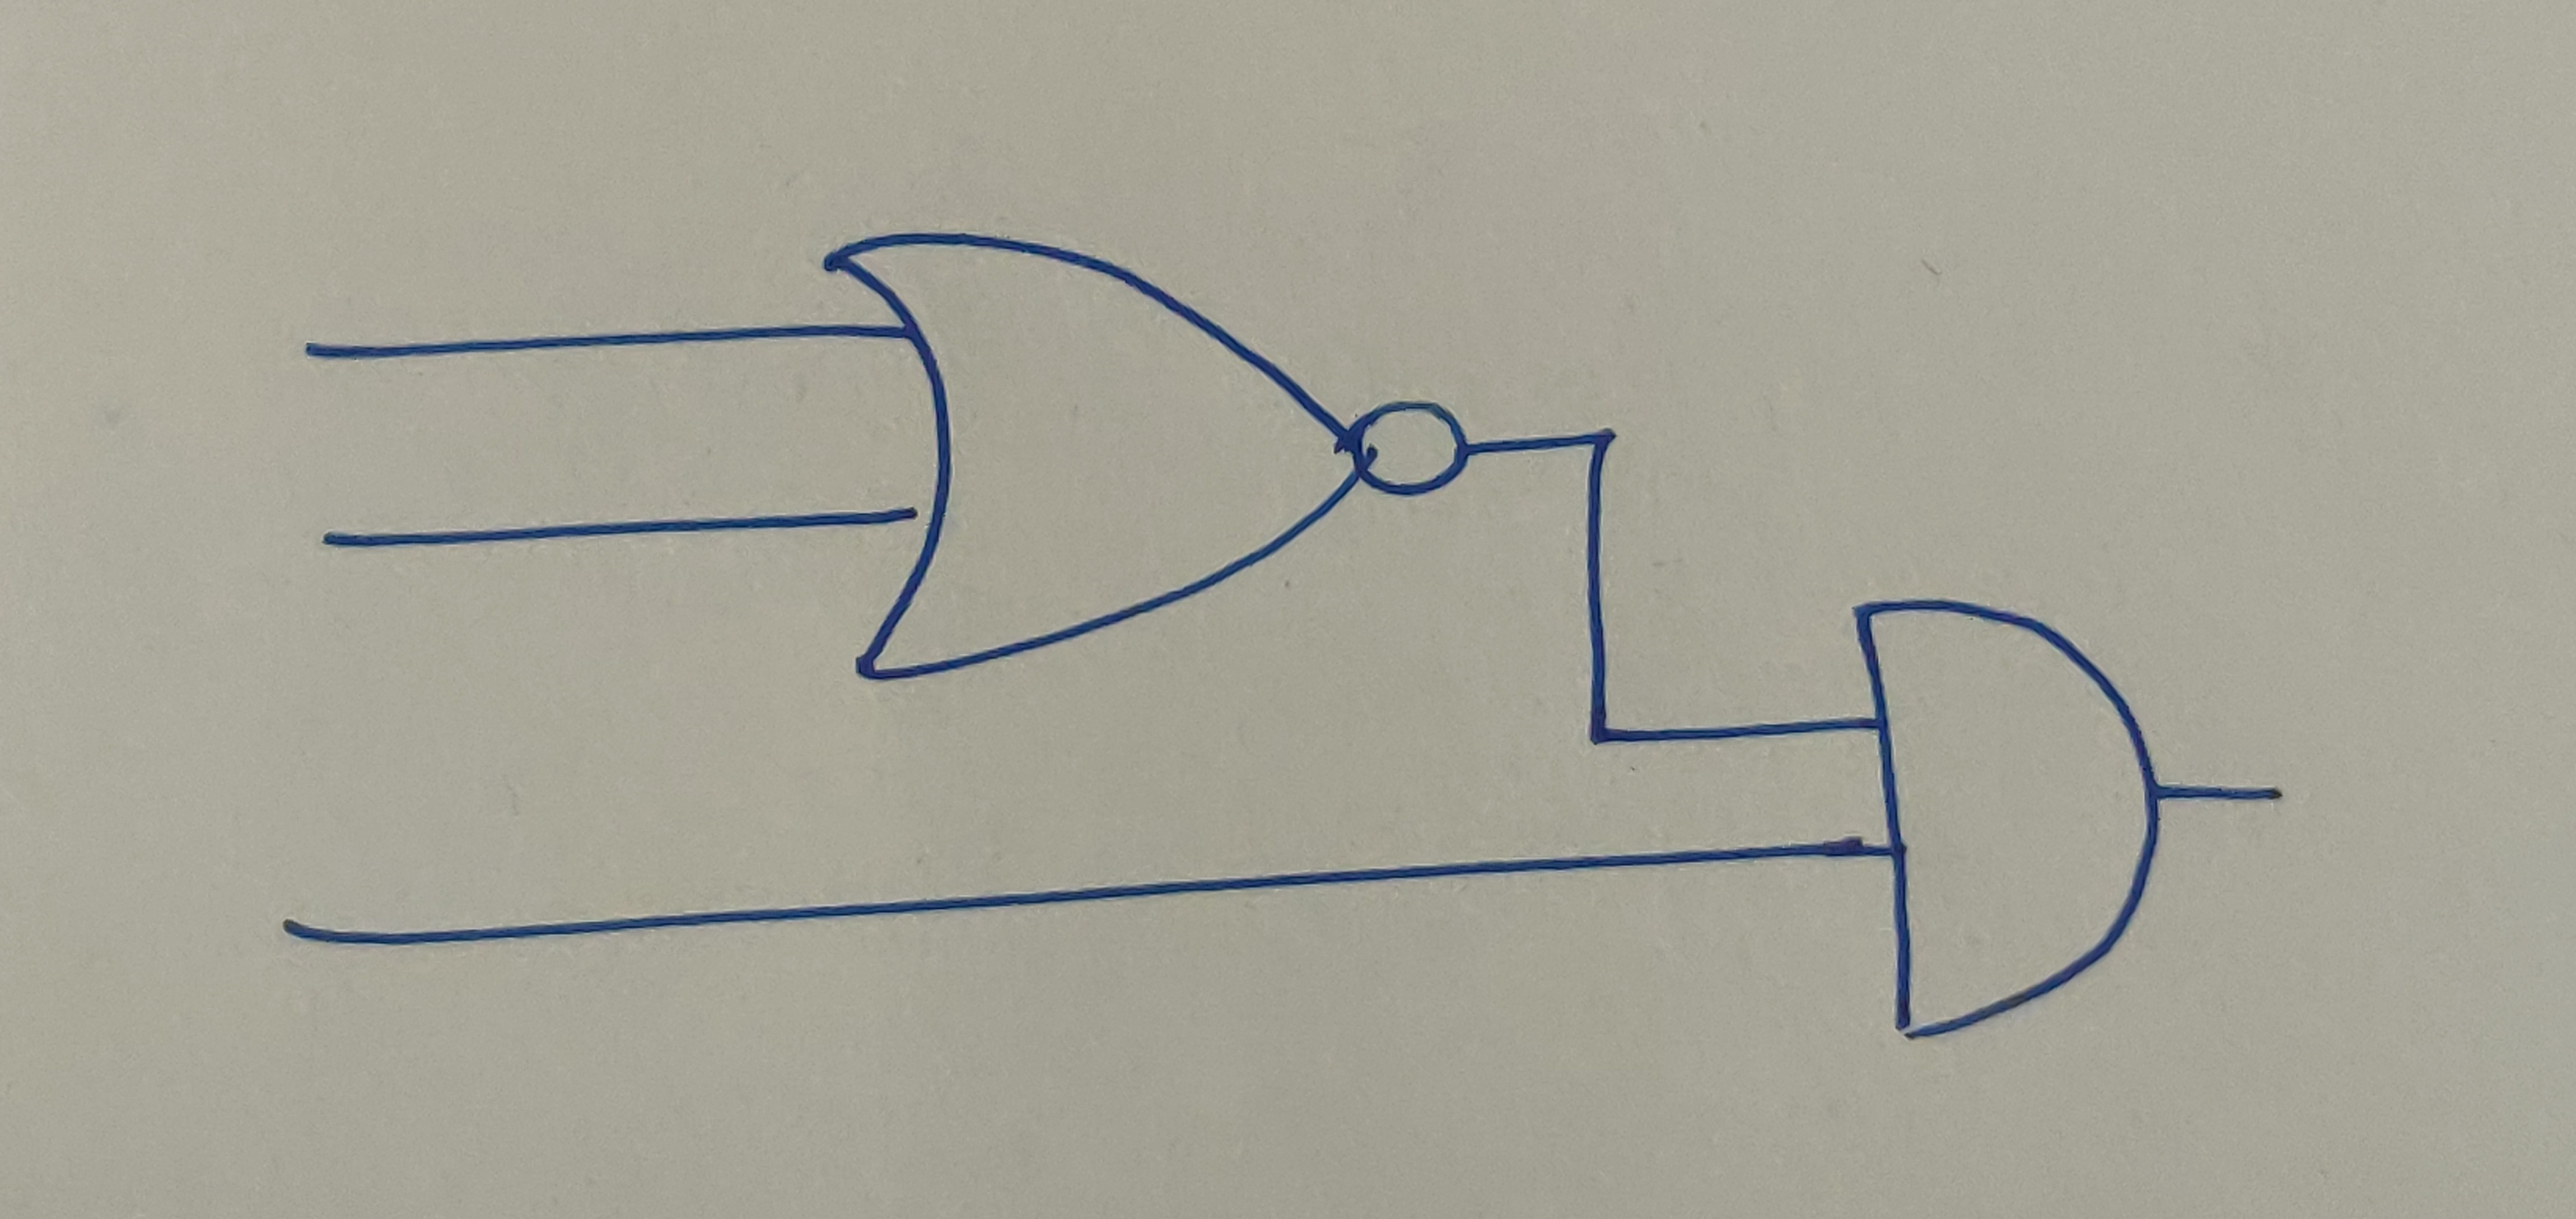and: (1852, 596, 2164, 1045)
not: (1350, 391, 1472, 498)
or: (813, 230, 1367, 688)
